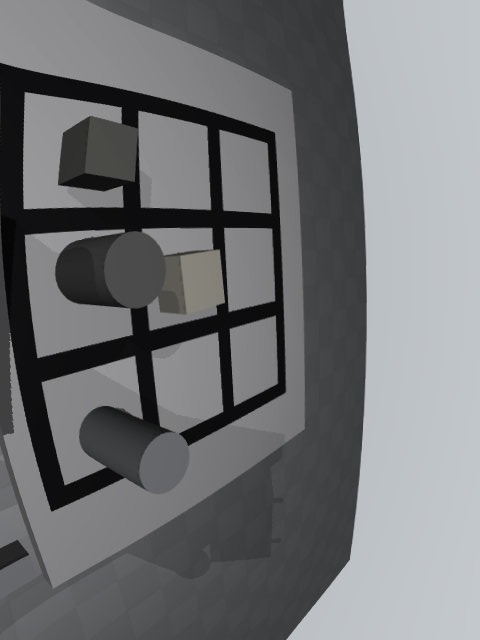can: (79, 406, 189, 494)
cube: (58, 116, 138, 192)
cylinder: (55, 231, 166, 309)
foam: (158, 249, 225, 315)
